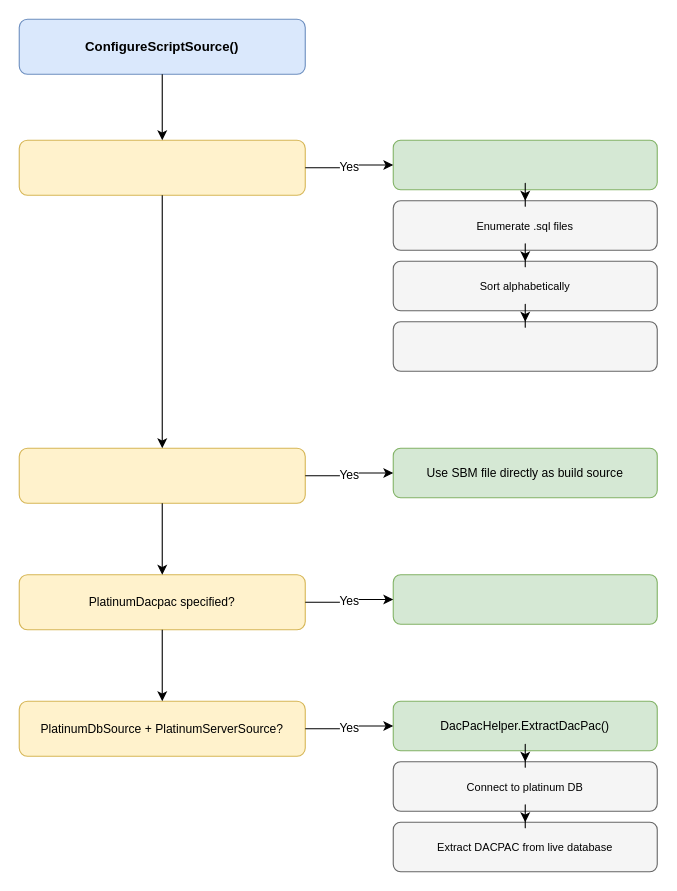
The diagram is 677 pixels wide and 891 high, and some of its shapes have lost their labels. Each missing label, with the box of its shape:
Build SBM package: (392, 321, 657, 371)
BuildFileName (.sbm) specified?: (18, 447, 305, 503)
ConstructBuildFileFrom ScriptDirectory(): (392, 139, 657, 190)
ScriptSrcDir specified?: (18, 139, 305, 195)
Use DACPAC to generate scripts via delta comparison: (392, 574, 657, 624)
